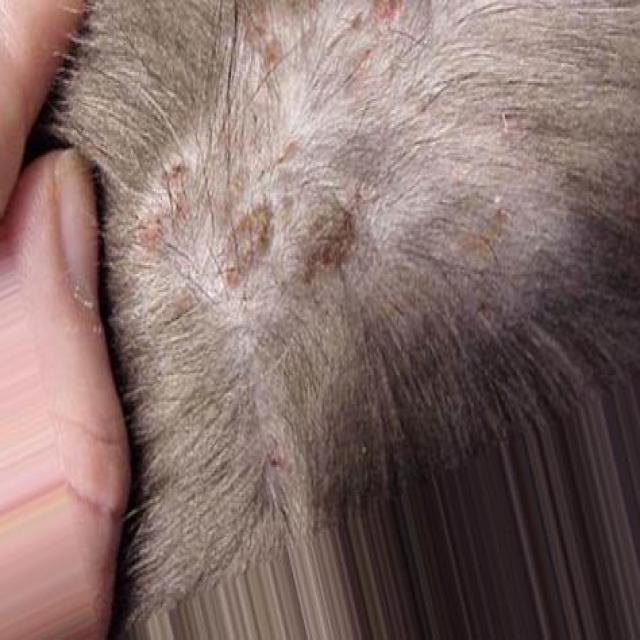di ung bo chet: (96, 9, 640, 364)
